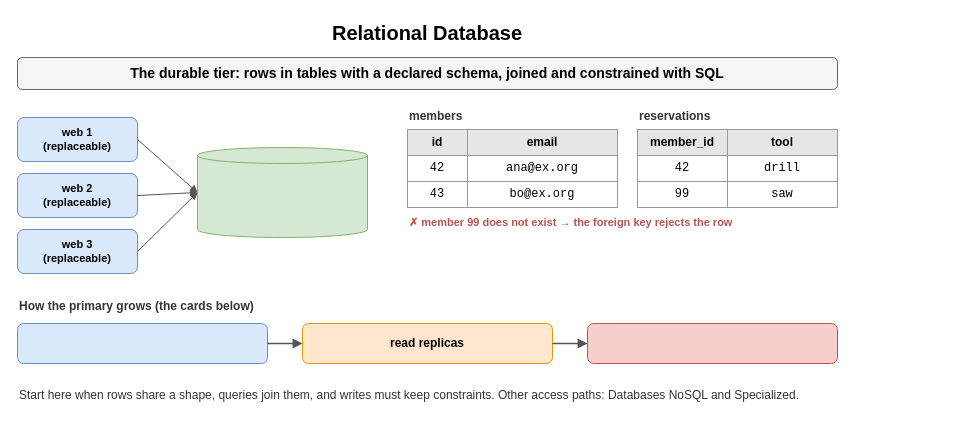
This 955x430 diagram has some shape labels left out. The centre of each missing label's shape, as x and y in pixels:
bigger machine: pixel 142 343
primary PostgreSQL / MySQL: pixel 282 192
shards: pixel 712 343
